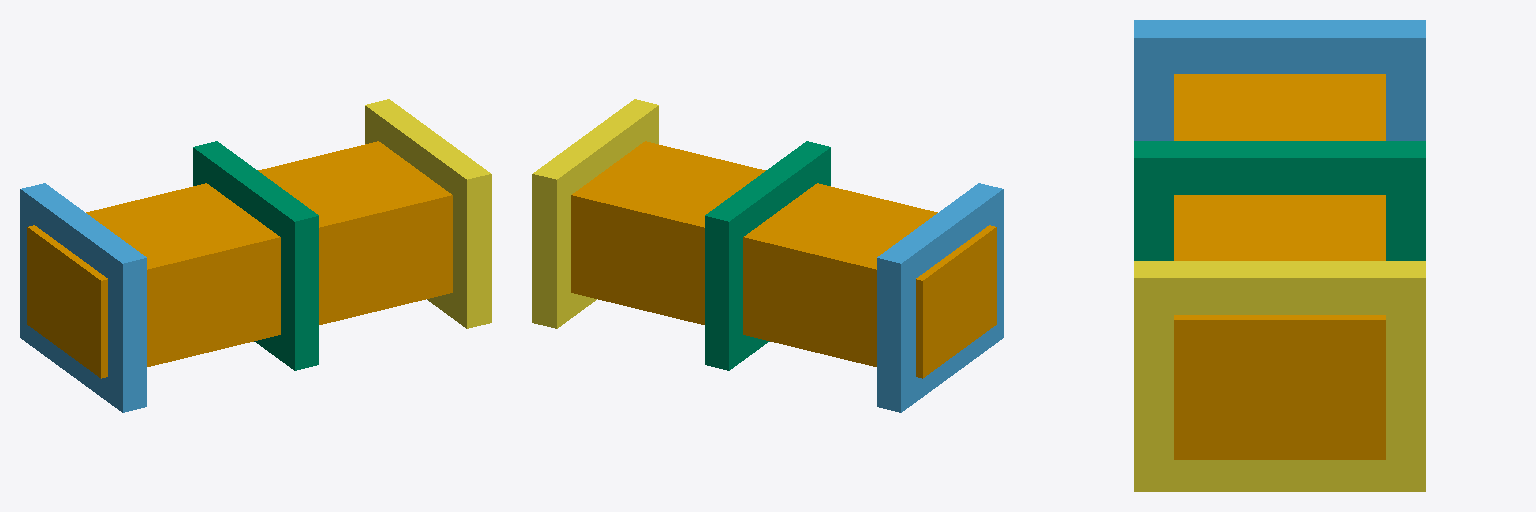
robot.urdf — debris002:
<?xml version="1.0" ?>
<robot name="debris002">

<link name="debris002">
<visual> <origin xyz="0 0 0" rpy="0 0 0" />
<geometry> <box size="0.78 0.26 0.19"/> </geometry>
</visual>
<collision> <origin xyz="0 0 0" rpy="0 0 0" />
<geometry> <box size="0.78 0.26 0.19"/> </geometry>
</collision>
<inertial> <origin xyz="0 0 0" rpy="0 0 0" />
<mass value="10.0" />
<inertia ixx="0.2806" ixy="0" ixz="0" iyy="0.2806" iyz="0" izz="0.2806" />
</inertial>
</link>
<gazebo reference="debris002"> <material>Gazebo/WoodFloor</material> </gazebo>

<link name="debris0020">
<visual> <origin xyz="-0.35 0 0" rpy="0 0 0" />
<geometry> <box size="0.05 0.36 0.29"/> </geometry>
</visual>
<collision> <origin xyz="-0.35 0 0" rpy="0 0 0" />
<geometry> <box size="0.05 0.36 0.29"/> </geometry>
</collision>
<inertial> <origin xyz="0 0 0" rpy="0 0 0" />
<mass value="0.1" />
<inertia ixx="0.0100" ixy="0" ixz="0" iyy="0.0100" iyz="0" izz="0.0100" />
</inertial>
</link>
<gazebo reference="debris0020"> <material>Gazebo/WoodFloor</material> </gazebo>

<joint name="debris0020joint" type="fixed">
<parent link="debris002"/>
<child link="debris0020"/>
<origin xyz="0 0 0" rpy="0 0 0" />
</joint>

<link name="debris0021">
<visual> <origin xyz="0.00 0 0" rpy="0 0 0" />
<geometry> <box size="0.05 0.36 0.29"/> </geometry>
</visual>
<collision> <origin xyz="0.00 0 0" rpy="0 0 0" />
<geometry> <box size="0.05 0.36 0.29"/> </geometry>
</collision>
<inertial> <origin xyz="0 0 0" rpy="0 0 0" />
<mass value="0.1" />
<inertia ixx="0.0100" ixy="0" ixz="0" iyy="0.0100" iyz="0" izz="0.0100" />
</inertial>
</link>
<gazebo reference="debris0021"> <material>Gazebo/WoodFloor</material> </gazebo>

<joint name="debris0021joint" type="fixed">
<parent link="debris002"/>
<child link="debris0021"/>
<origin xyz="0 0 0" rpy="0 0 0" />
</joint>

<link name="debris0022">
<visual> <origin xyz="0.35 0 0" rpy="0 0 0" />
<geometry> <box size="0.05 0.36 0.29"/> </geometry>
</visual>
<collision> <origin xyz="0.35 0 0" rpy="0 0 0" />
<geometry> <box size="0.05 0.36 0.29"/> </geometry>
</collision>
<inertial> <origin xyz="0 0 0" rpy="0 0 0" />
<mass value="0.1" />
<inertia ixx="0.0100" ixy="0" ixz="0" iyy="0.0100" iyz="0" izz="0.0100" />
</inertial>
</link>
<gazebo reference="debris0022"> <material>Gazebo/WoodFloor</material> </gazebo>

<joint name="debris0022joint" type="fixed">
<parent link="debris002"/>
<child link="debris0022"/>
<origin xyz="0 0 0" rpy="0 0 0" />
</joint>

</robot>

--- Render facts (derived) ---
Views: 3 orthographic renders of the robot side by side, from view 1: azimuth 30°, elevation 25°; view 2: azimuth 150°, elevation 25°; view 3: azimuth 270°, elevation 25°.
Robot: debris002 — 4 links, 3 joints (3 fixed); root link debris002; default pose: all joints at 0.
Visible links, largest first — view 1: debris002, debris0020, debris0022, debris0021; view 2: debris002, debris0020, debris0022, debris0021; view 3: debris002, debris0022, debris0020, debris0021.
Link boxes in pixels (bbox=[...]): debris002: bbox=[27, 141, 452, 378]; debris0020: bbox=[20, 183, 146, 412]; debris0022: bbox=[365, 99, 491, 328]; debris0021: bbox=[193, 141, 318, 370]; debris002: bbox=[571, 141, 996, 378]; debris0020: bbox=[877, 183, 1003, 412]; debris0022: bbox=[532, 99, 658, 328]; debris0021: bbox=[705, 141, 830, 370]; debris002: bbox=[1174, 74, 1385, 459]; debris0022: bbox=[1134, 261, 1425, 491]; debris0020: bbox=[1134, 20, 1425, 140]; debris0021: bbox=[1134, 141, 1425, 260].
Bounding box of the posed robot: 0.78 × 0.36 × 0.29 m (x, y, z).
Geometry: primitives only (box / cylinder / sphere), no mesh files.
